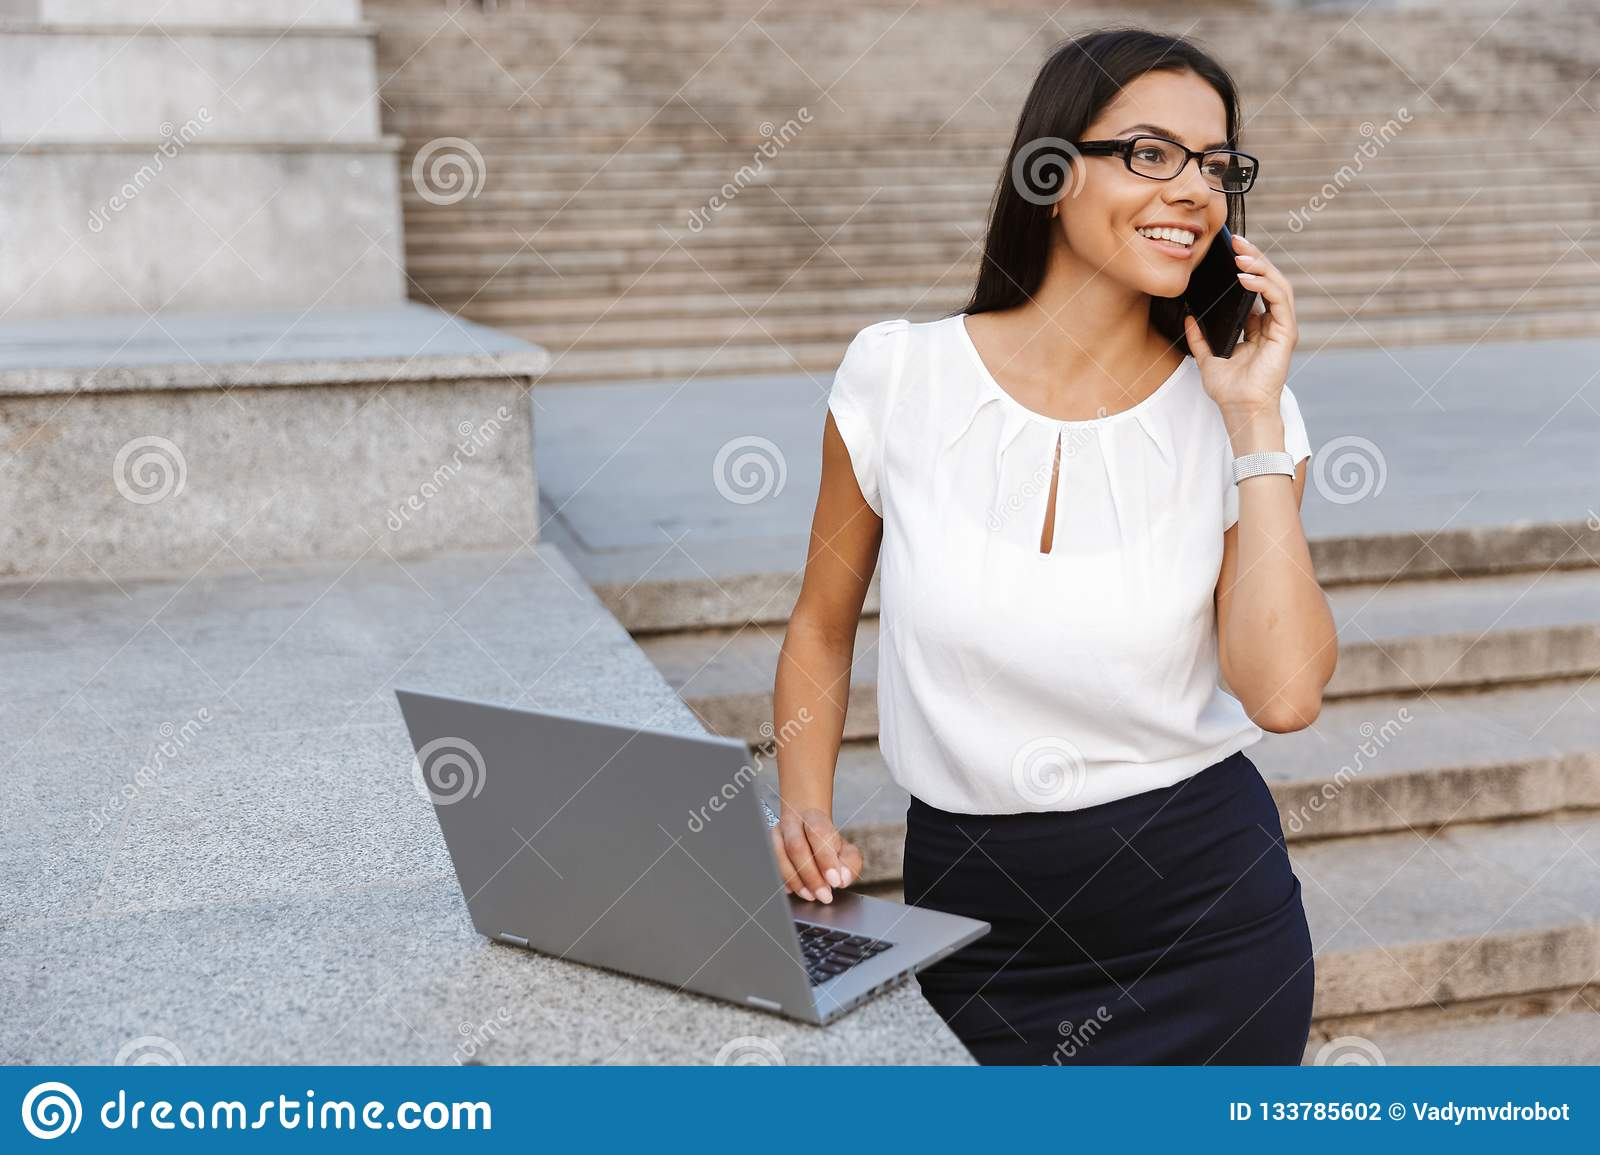phone: (1174, 216, 1258, 339)
talk: (1101, 122, 1291, 440)
